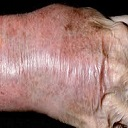Cellulitis: (63, 9, 102, 33)
